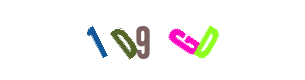1: (85, 0, 165, 80)
9: (113, 0, 193, 80)
D: (112, 0, 192, 80), (167, 0, 247, 80)
G: (143, 0, 223, 80)
